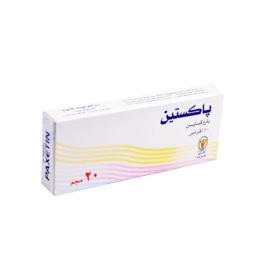Medicine: (29, 86, 239, 201)
